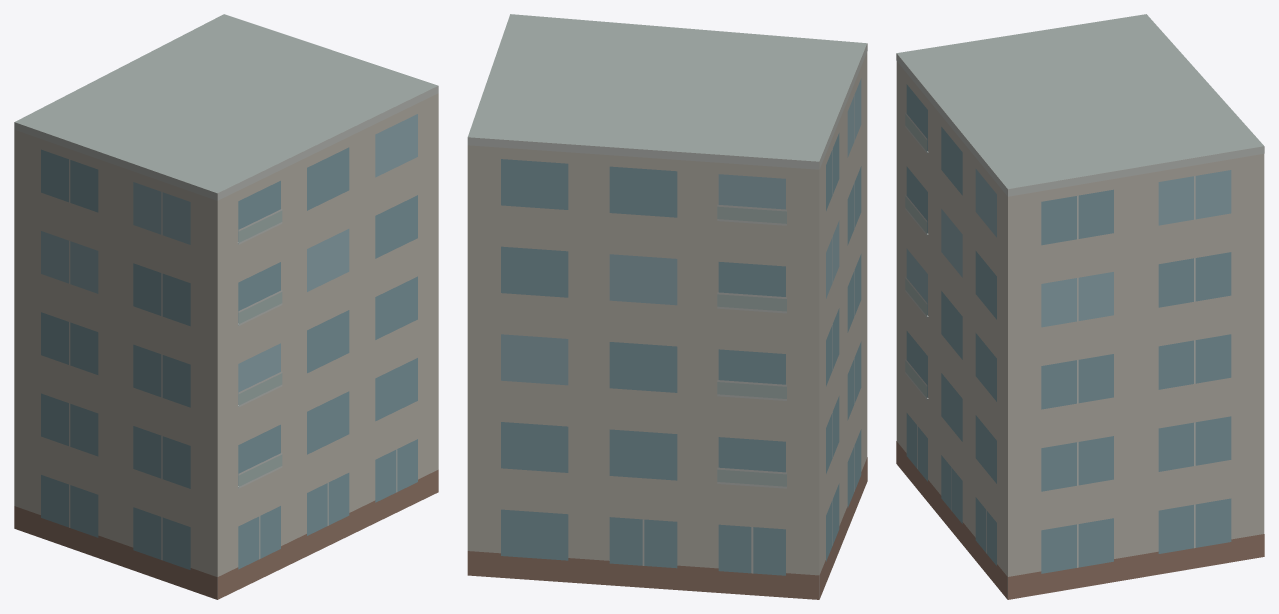
The model's file is survey-upis-32842346.glb.
The picture shows the model from 3 angles, left to right: view 1: azimuth 30°, elevation 25°; view 2: azimuth 150°, elevation 25°; view 3: azimuth 270°, elevation 25°; orthographic projection. The views are drawn at different scales.
Visible parts, largest first — view 1: survey-upis-32842346.tmp; view 2: survey-upis-32842346.tmp; view 3: survey-upis-32842346.tmp.
Boxes of the visible parts, left/top/right/bottom form: survey-upis-32842346.tmp: left=14, top=14, right=438, bottom=599; survey-upis-32842346.tmp: left=467, top=14, right=867, bottom=599; survey-upis-32842346.tmp: left=896, top=14, right=1264, bottom=599.
Size of the model in its own units: 12.13 by 13.25 by 10.77.
